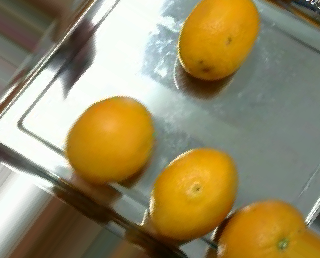Orange: (149, 146, 239, 240), (65, 95, 157, 183), (177, 1, 261, 81)
